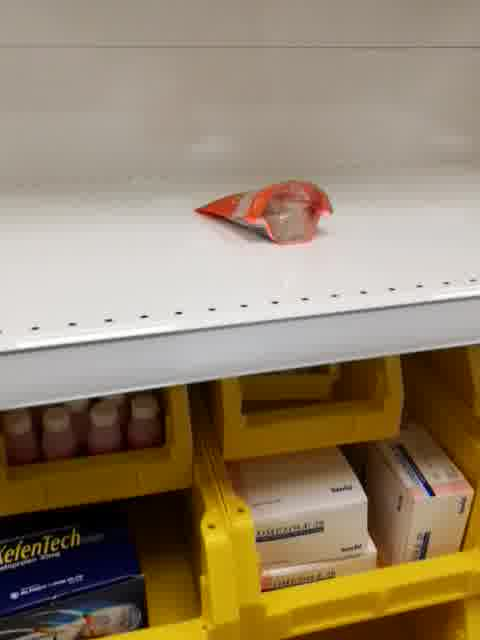whitechia: (193, 174, 334, 246)
